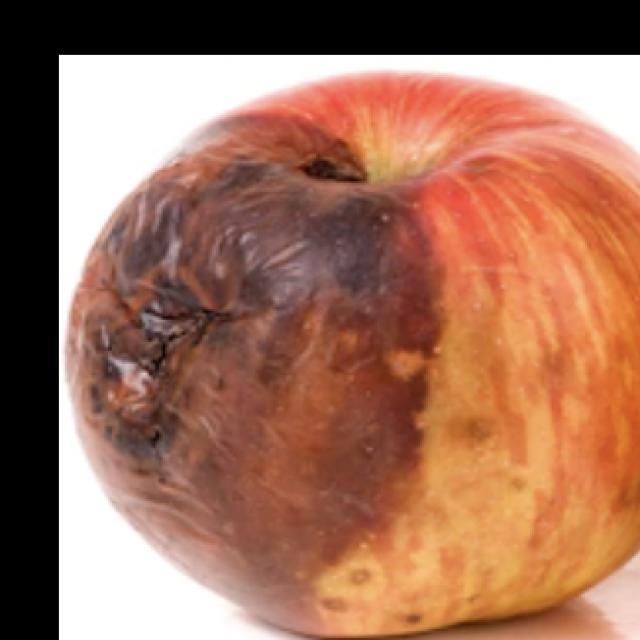Rotten: (81, 73, 629, 640)
